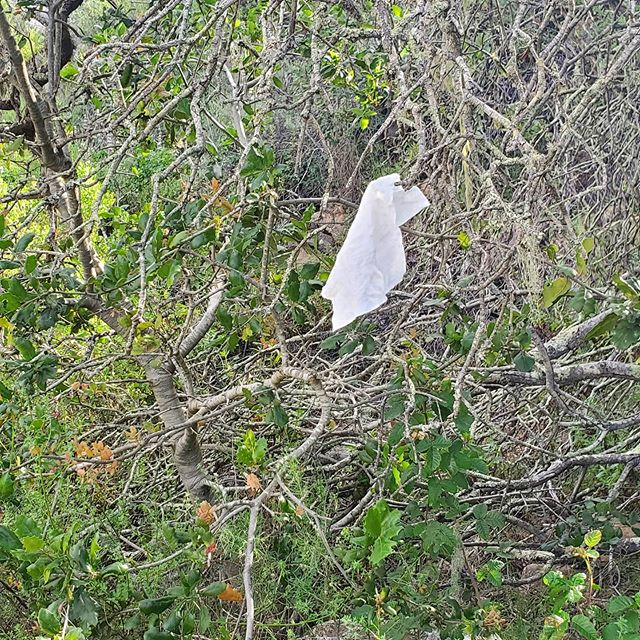trash: (313, 163, 441, 336)
vegetation: (1, 1, 631, 636)
